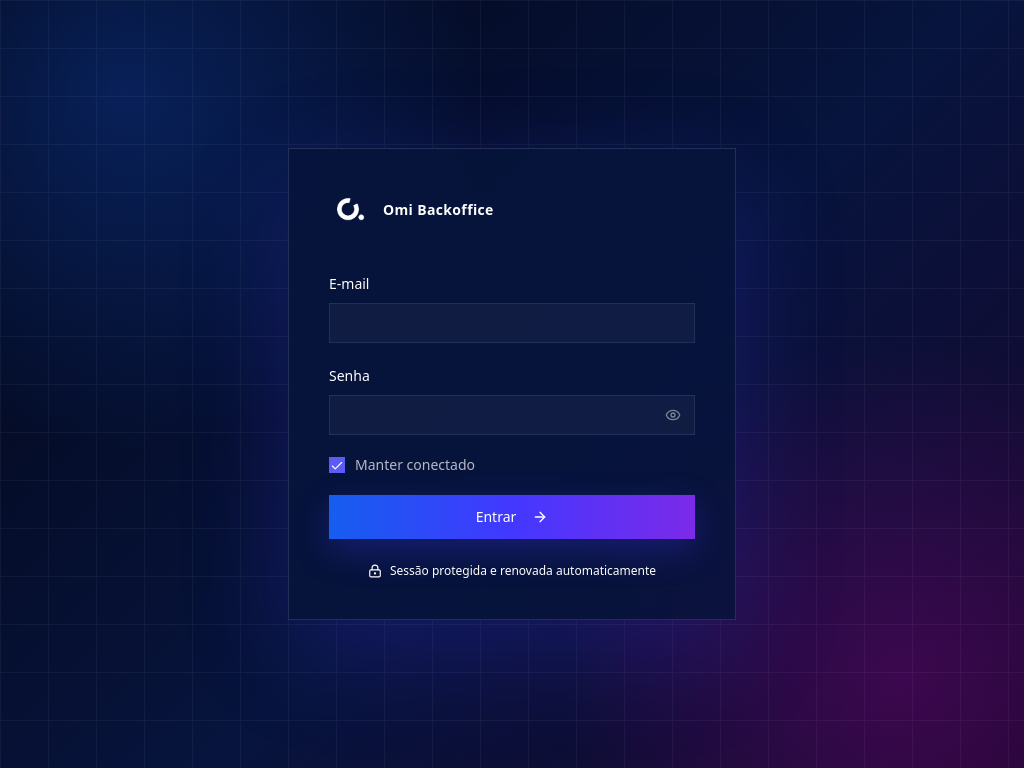
Test case: login do dashboard › exibe a mensagem do backend quando as credenciais são inválidas
Type "usuario@example.com" into the field labelled "E-mail" at [512, 323], box [329,303,695,343]
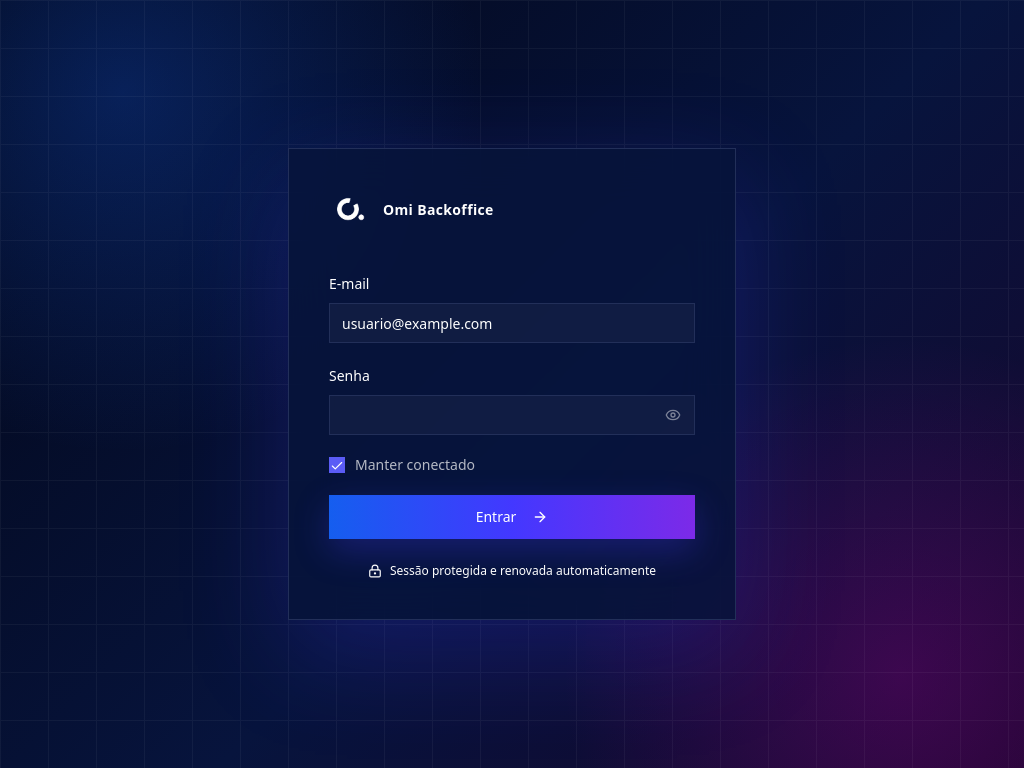
Type "senha-incorreta" into the password field labelled "Senha" at [512, 415], box [329,395,695,435]
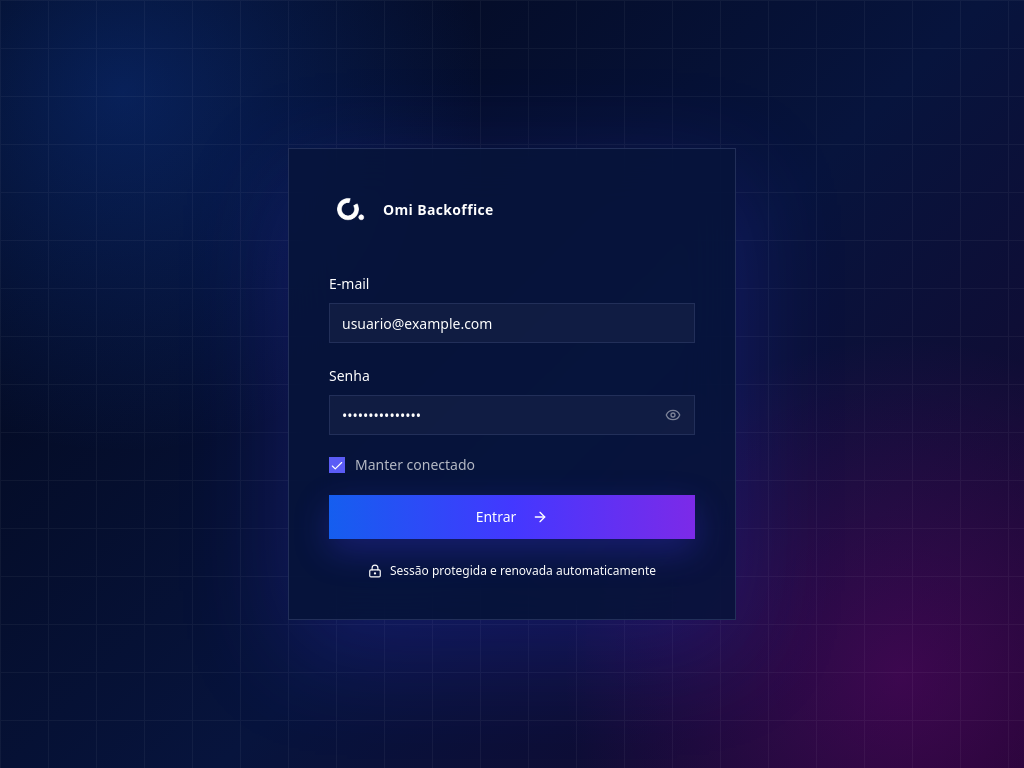
Click the button "Entrar" at [512, 517], box [329,495,695,539]
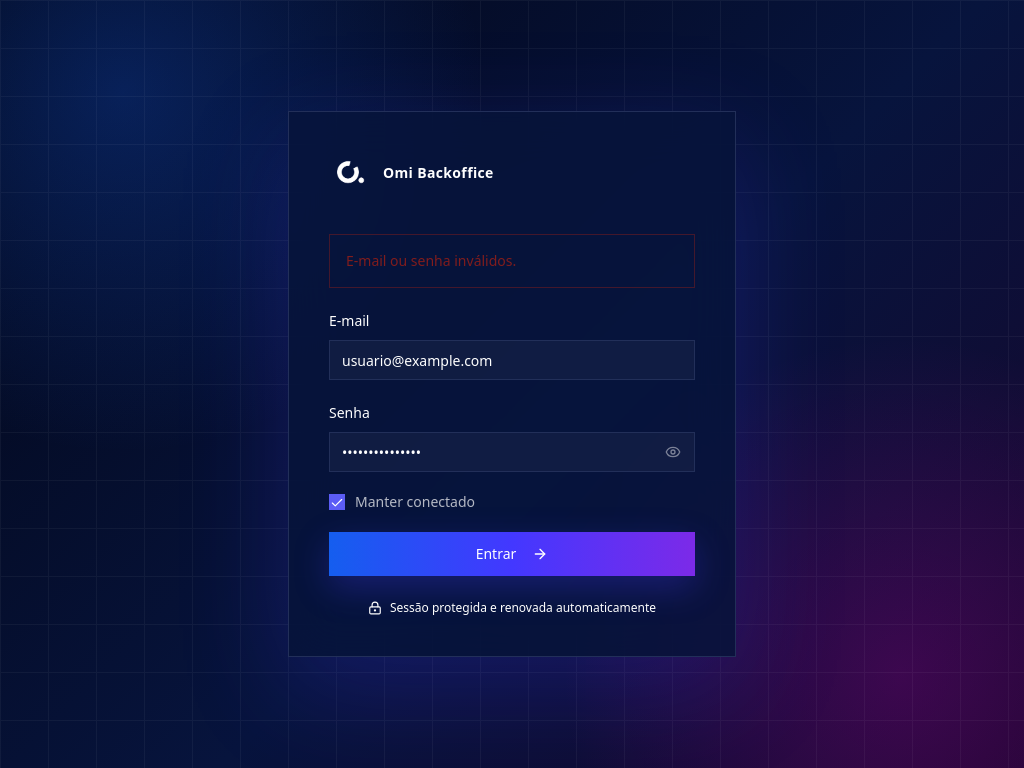
Expected: the button "Entrar" is enabled, [329,532,695,576]
Now the text "E-mail ou senha inválidos." is shown, box [346,251,516,270]
